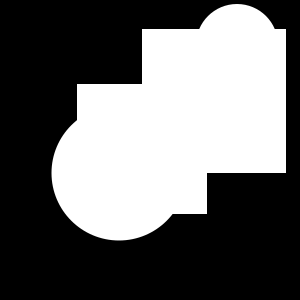circle: (142, 29, 286, 173), (77, 84, 207, 214)
rectangle: (52, 106, 186, 240), (196, 4, 278, 86), (106, 154, 136, 184)
